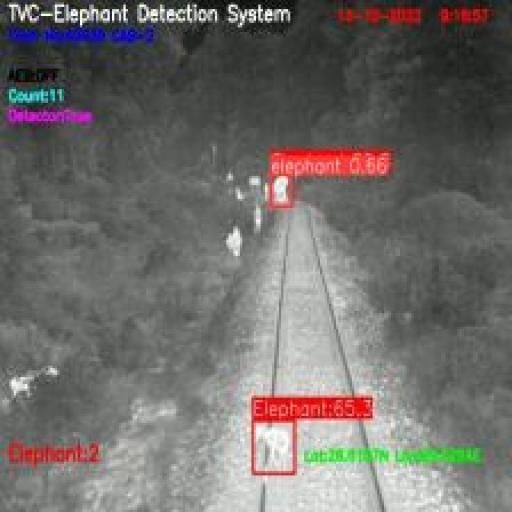Elephant: (272, 174, 293, 206)
